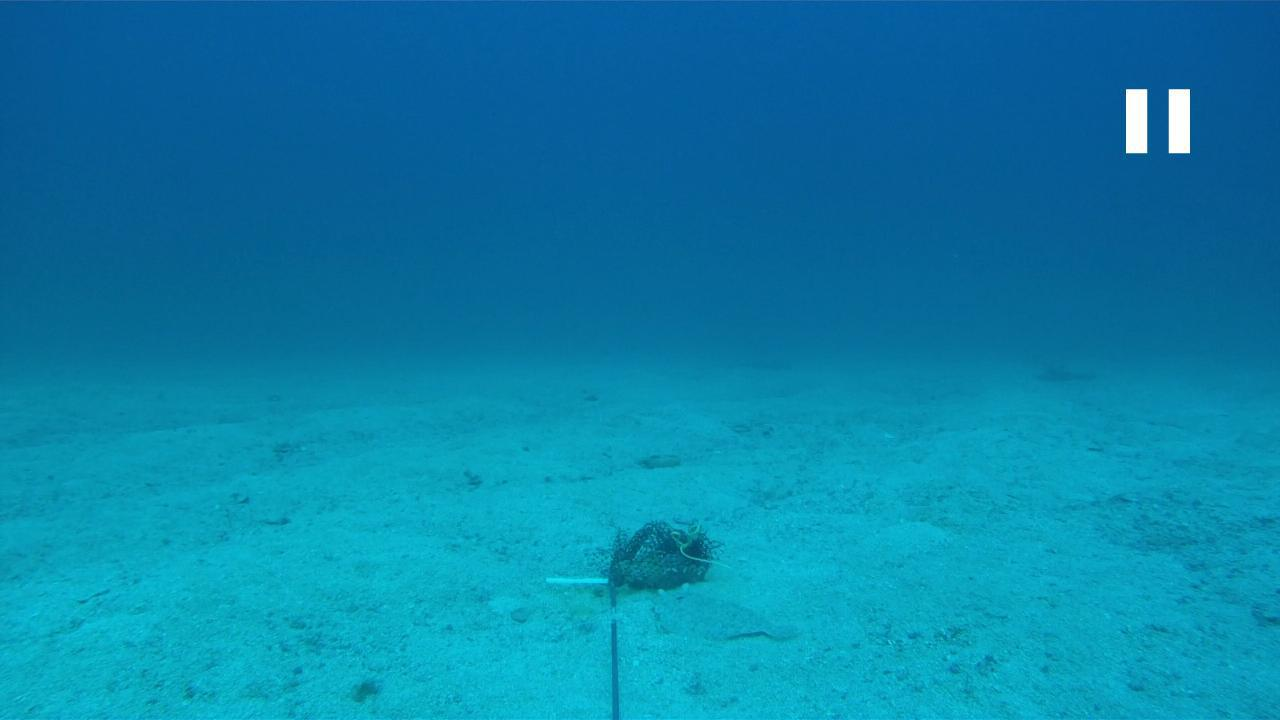bothus: (650, 583, 800, 644)
